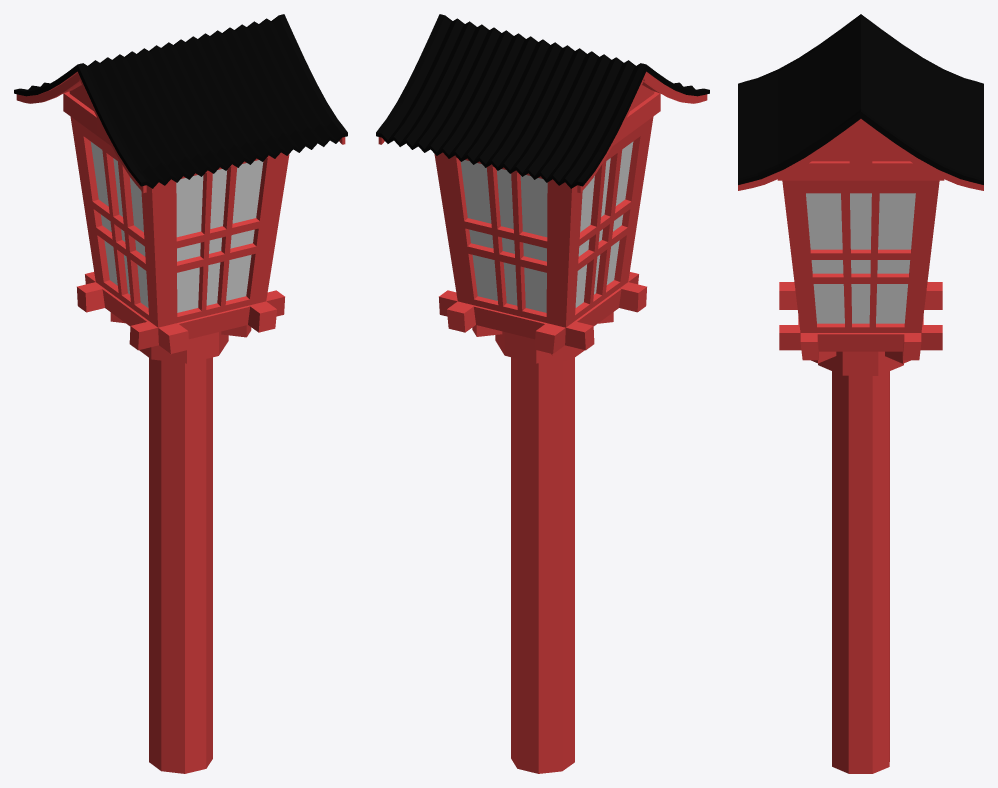
Rendered from LAMP.fbx.
3 views of the same model, side by side, from view 1: azimuth 30°, elevation 25°; view 2: azimuth 150°, elevation 25°; view 3: azimuth 270°, elevation 25° (orthographic). The views are drawn at different scales.
Parts seen in each view (by area): view 1: Lamp.001; view 2: Lamp.001; view 3: Lamp.001.
Boxes of the visible parts, x1,y1,x2,y2 form: Lamp.001: [14, 14, 347, 773]; Lamp.001: [376, 14, 709, 773]; Lamp.001: [738, 14, 983, 773].
Bounding box in the file's own units: 94.92 × 316 × 101.
